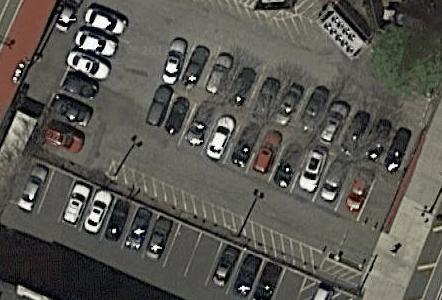parkingspot: (12, 156, 310, 300), (138, 80, 402, 235), (157, 28, 424, 178), (33, 6, 139, 167)
